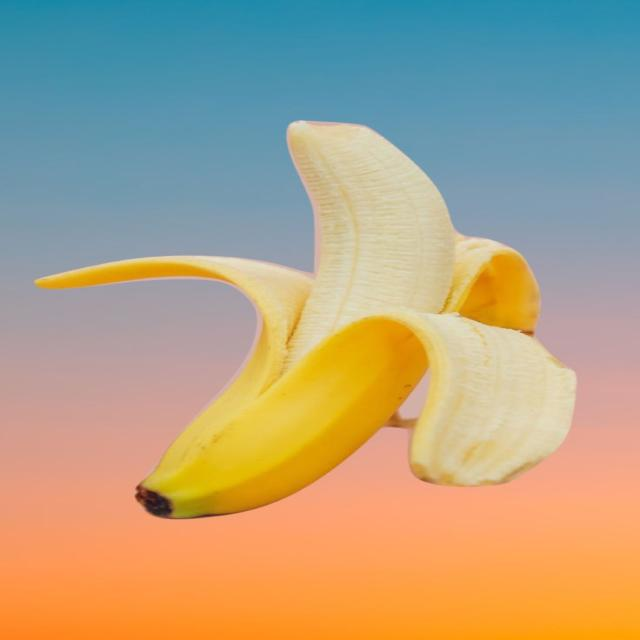banana: (37, 122, 574, 518), (286, 122, 454, 366), (444, 236, 539, 335)
